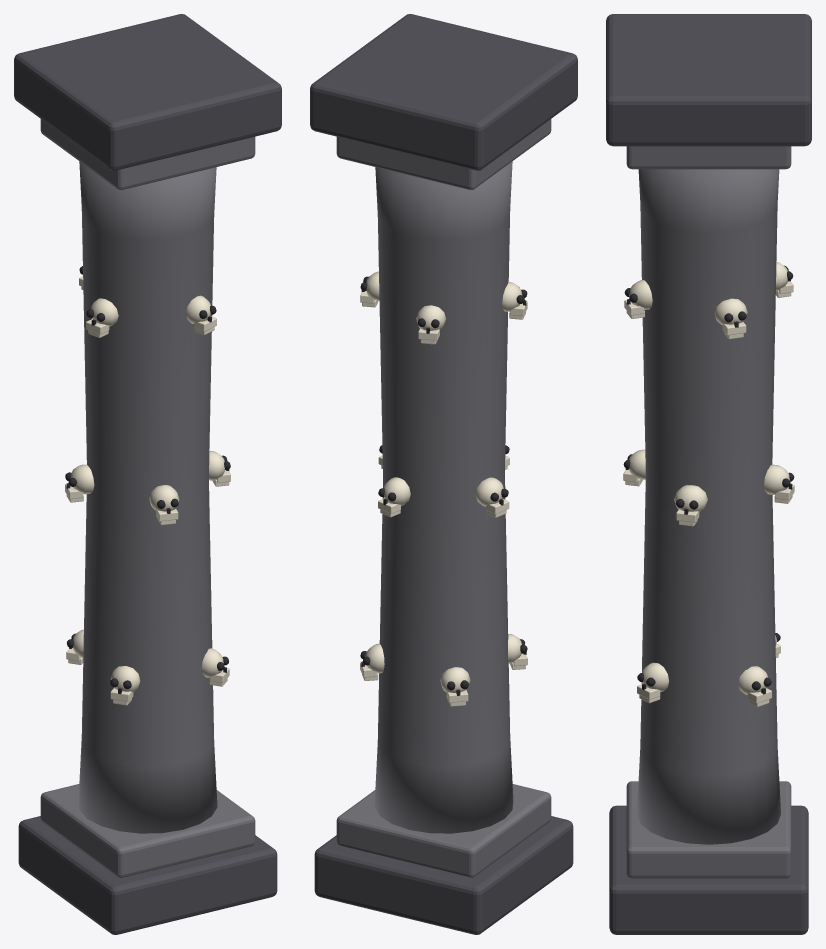
The model's file is column_skull.glb.
The picture shows the model from 3 angles, left to right: view 1: azimuth 30°, elevation 25°; view 2: azimuth 150°, elevation 25°; view 3: azimuth 270°, elevation 25°; orthographic projection. The views are drawn at different scales.
Parts seen in each view (by area): view 1: GD_column_skull__m1, GD_column_skull__m0, GD_column_skull__m2, GD_column_skull__m4; view 2: GD_column_skull__m1, GD_column_skull__m0, GD_column_skull__m2, GD_column_skull__m4; view 3: GD_column_skull__m1, GD_column_skull__m0, GD_column_skull__m2, GD_column_skull__m4.
Part boxes in pixels (box(x1,y1,x2,y2)): GD_column_skull__m1: box(40, 119, 255, 877); GD_column_skull__m0: box(14, 14, 281, 934); GD_column_skull__m2: box(65, 276, 230, 705); GD_column_skull__m4: box(65, 266, 230, 693); GD_column_skull__m1: box(336, 119, 551, 877); GD_column_skull__m0: box(310, 14, 577, 934); GD_column_skull__m2: box(360, 271, 527, 706); GD_column_skull__m4: box(360, 276, 527, 695); GD_column_skull__m1: box(626, 146, 791, 878); GD_column_skull__m0: box(606, 14, 811, 934); GD_column_skull__m2: box(623, 261, 794, 707); GD_column_skull__m4: box(623, 265, 794, 694).
Bounding box in the file's own units: 0.6 × 2.7 × 0.6.
